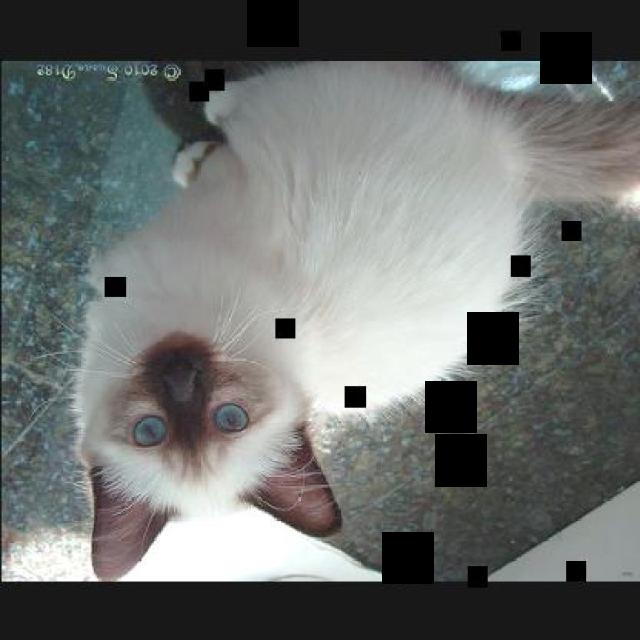unauthorized: (46, 58, 639, 580)
